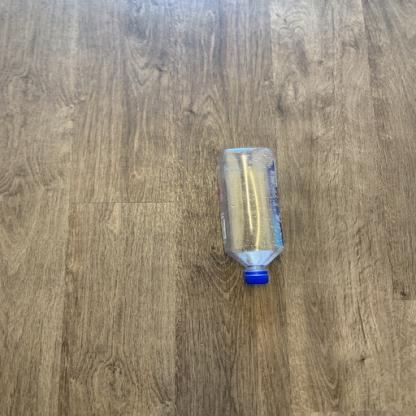trash: (214, 147, 285, 287)
